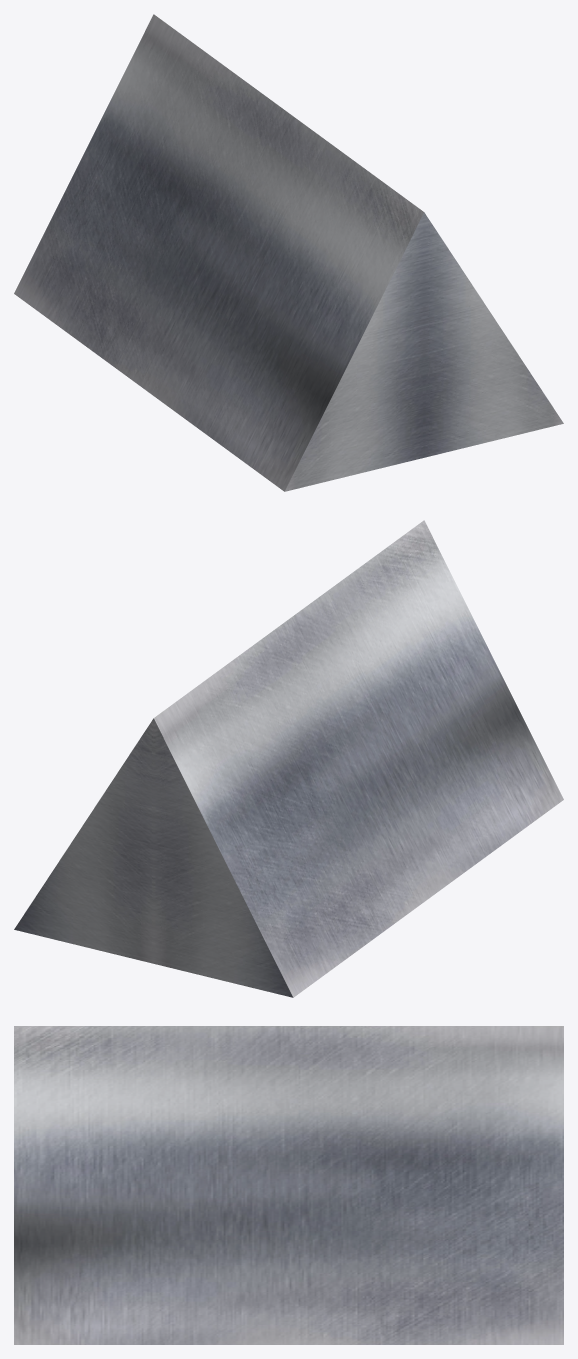
File: slippymetaltest1.gltf
The picture shows the model from 3 angles, top to bottom: view 1: azimuth 30°, elevation 25°; view 2: azimuth 150°, elevation 25°; view 3: azimuth 270°, elevation 25°; orthographic projection.
Visible parts, largest first — view 1: Cube; view 2: Cube; view 3: Cube.
Part boxes in pixels (x1,y1,x2,y2): Cube: [14, 14, 563, 491]; Cube: [14, 520, 563, 997]; Cube: [14, 1026, 563, 1344].
Size of the model in its own units: 2.38 by 2 by 3.99.
Materials: 1 (1 with a texture image).
